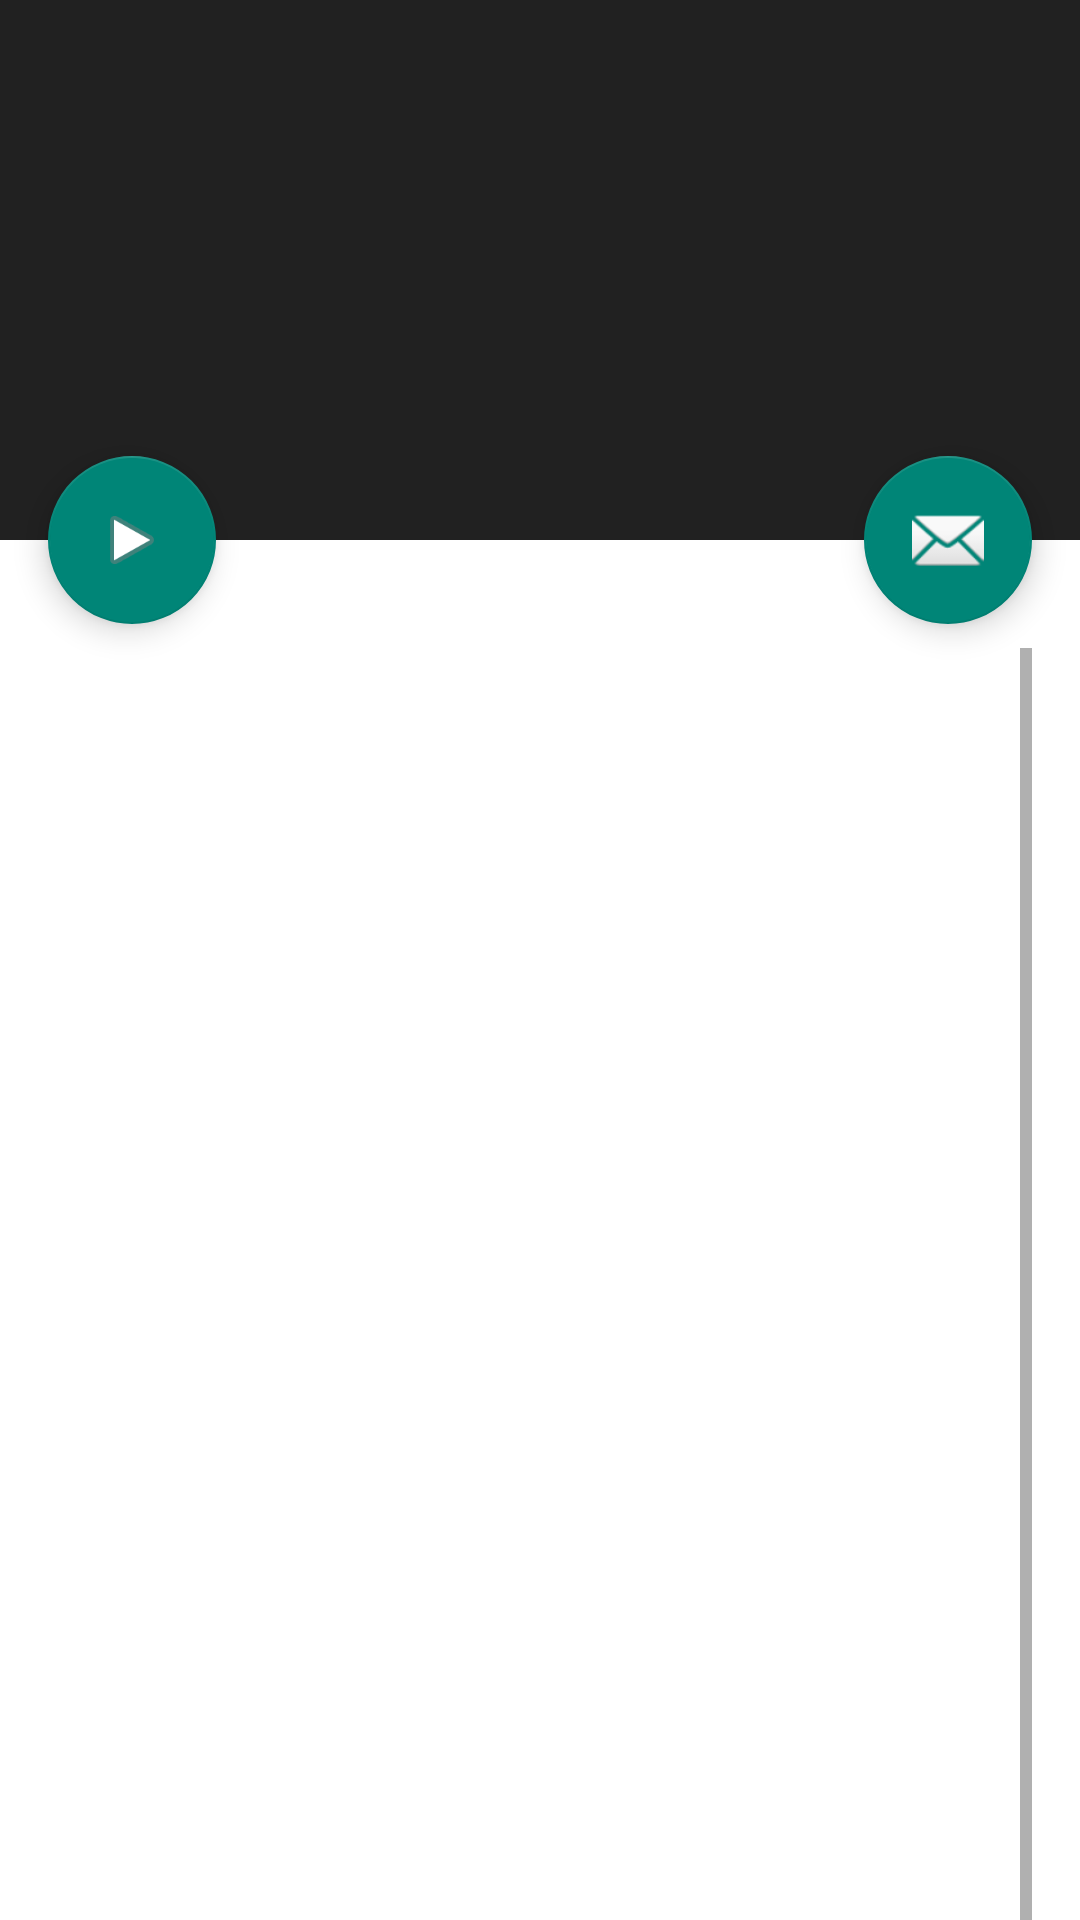

Screen size 1080px×1920px. Icon name, then its center in pixels as (x=x, y=y):
email: (x=948, y=540)
play: (x=132, y=540)
